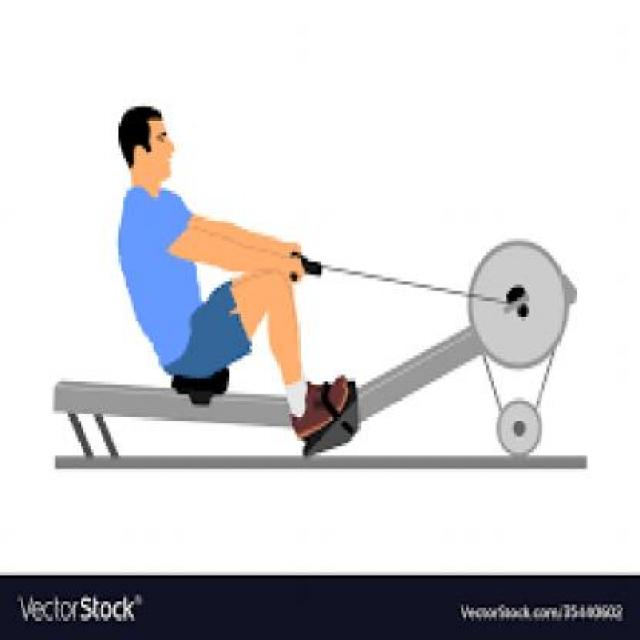Seated Cable Rows: (44, 71, 610, 512)
